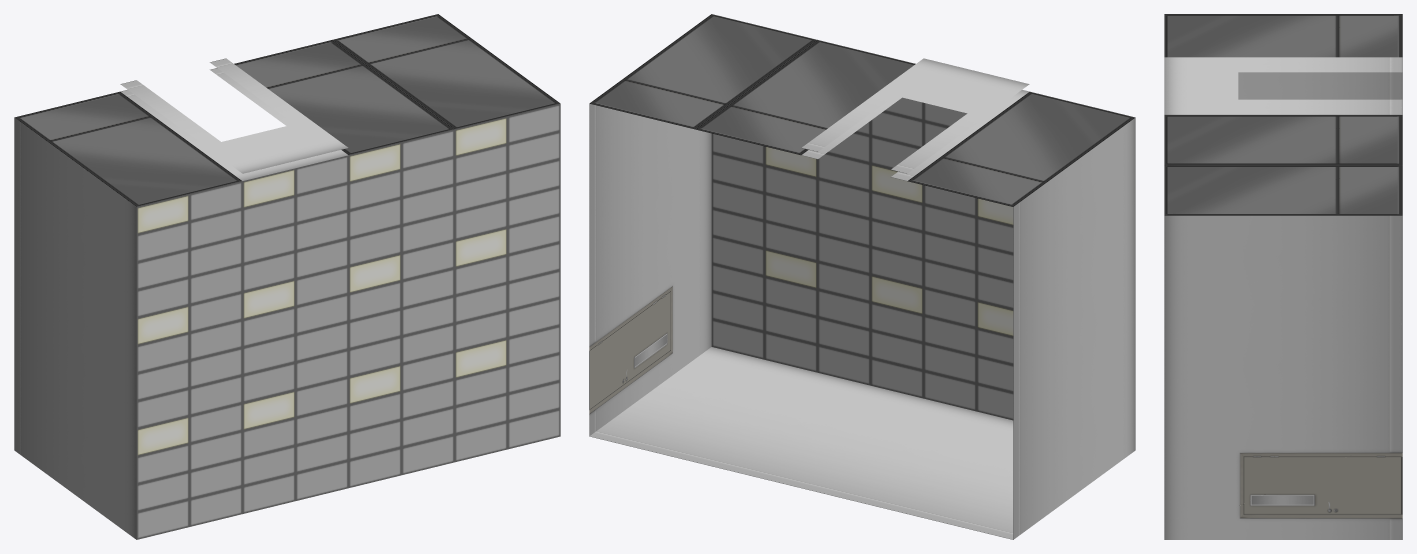
The model's file is meeting_room_small.obj.
3 renders of one model, left to right at view 1: azimuth 30°, elevation 25°; view 2: azimuth 150°, elevation 25°; view 3: azimuth 270°, elevation 25°, orthographic. The views are drawn at different scales.
Visible parts, largest first — view 1: meeting_room_small; view 2: meeting_room_small; view 3: meeting_room_small.
Part boxes in pixels (left/top/right/bottom): meeting_room_small: left=14, top=14, right=560, bottom=539; meeting_room_small: left=589, top=14, right=1135, bottom=539; meeting_room_small: left=1164, top=14, right=1402, bottom=539.
Bounding box in the file's own units: 600 × 460 × 300.
